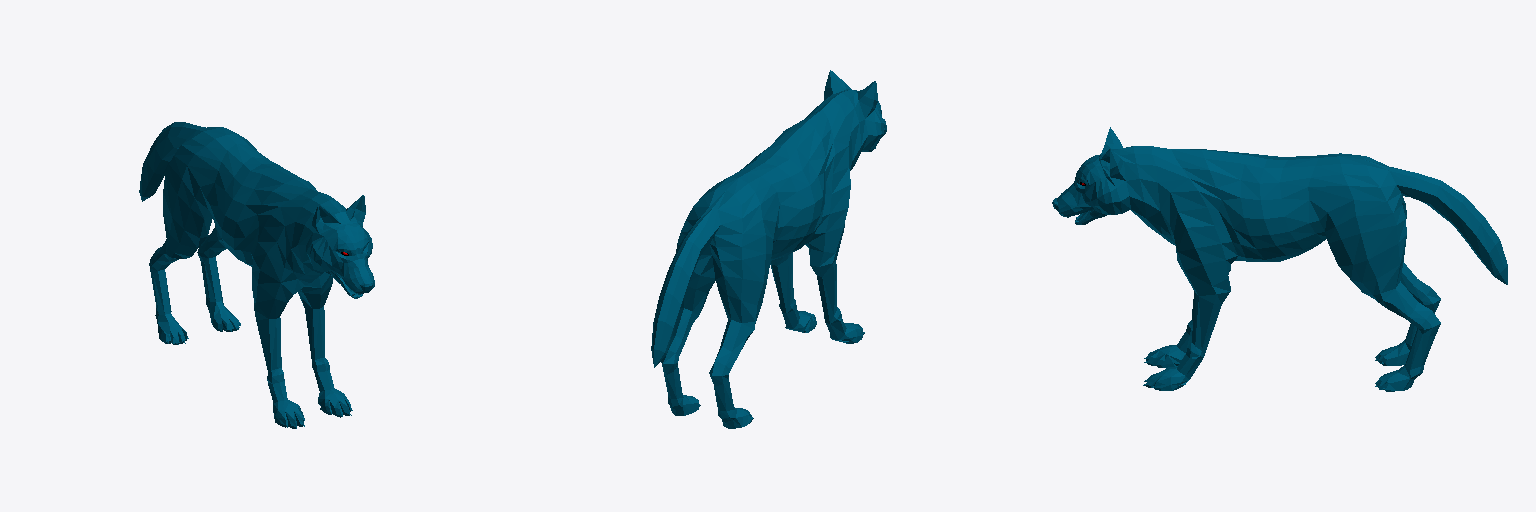
File: wolf.obj
The picture shows the model from 3 angles: view 1: azimuth 30°, elevation 25°; view 2: azimuth 150°, elevation 25°; view 3: azimuth 270°, elevation 25°; orthographic projection.
Parts seen in each view (by area): view 1: wolfyskle_Wolf; view 2: wolfyskle_Wolf; view 3: wolfyskle_Wolf.
Part boxes in pixels (bbox=[...]): wolfyskle_Wolf: bbox=[139, 122, 374, 428]; wolfyskle_Wolf: bbox=[651, 70, 886, 428]; wolfyskle_Wolf: bbox=[1052, 127, 1507, 391].
Size of the model in its own units: 0.8367 by 2.36 by 4.14.